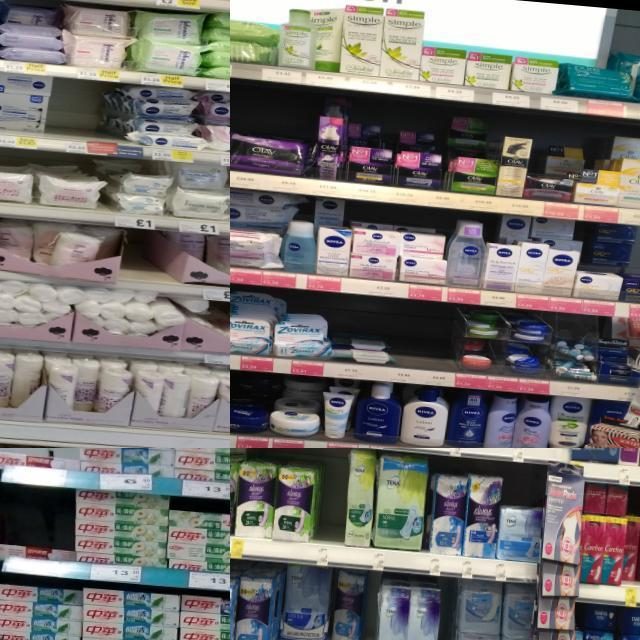Imprecise: (346, 119, 448, 192), (496, 212, 576, 290), (227, 188, 300, 271), (446, 112, 502, 196), (0, 0, 64, 59), (272, 372, 320, 436), (230, 292, 272, 355), (0, 227, 54, 264), (180, 233, 229, 269)
